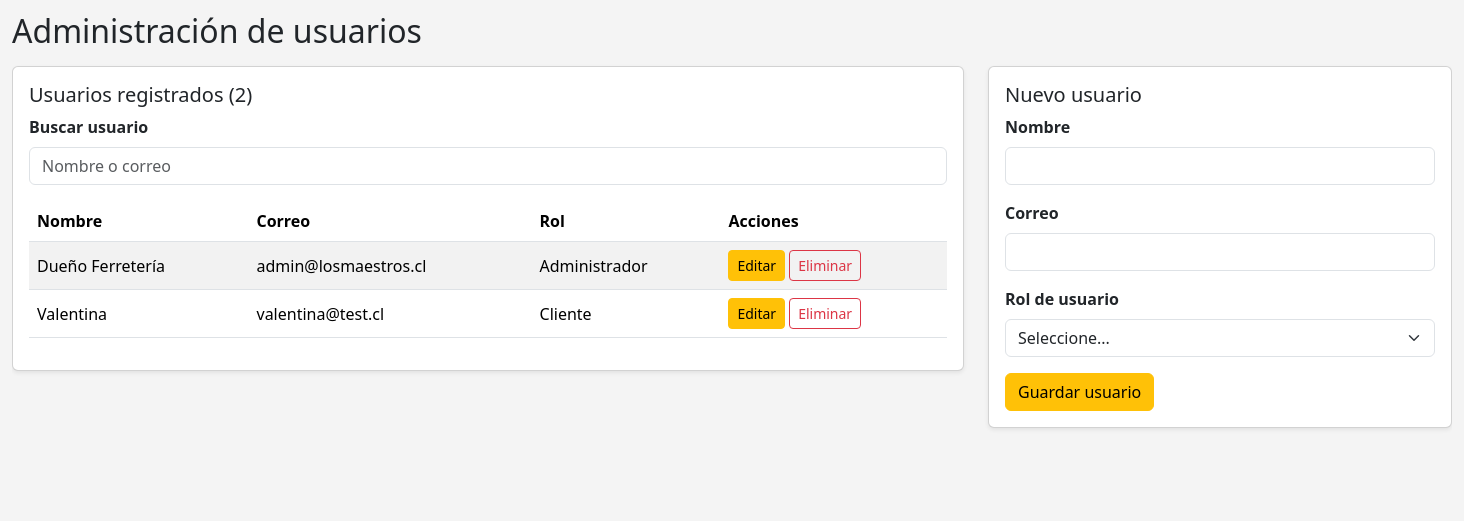
AdminUsuarios › DELETE con confirmación
Step 1. Click the button with aria-label "Eliminar Valentina" → (825, 314), box [789,298,861,329]
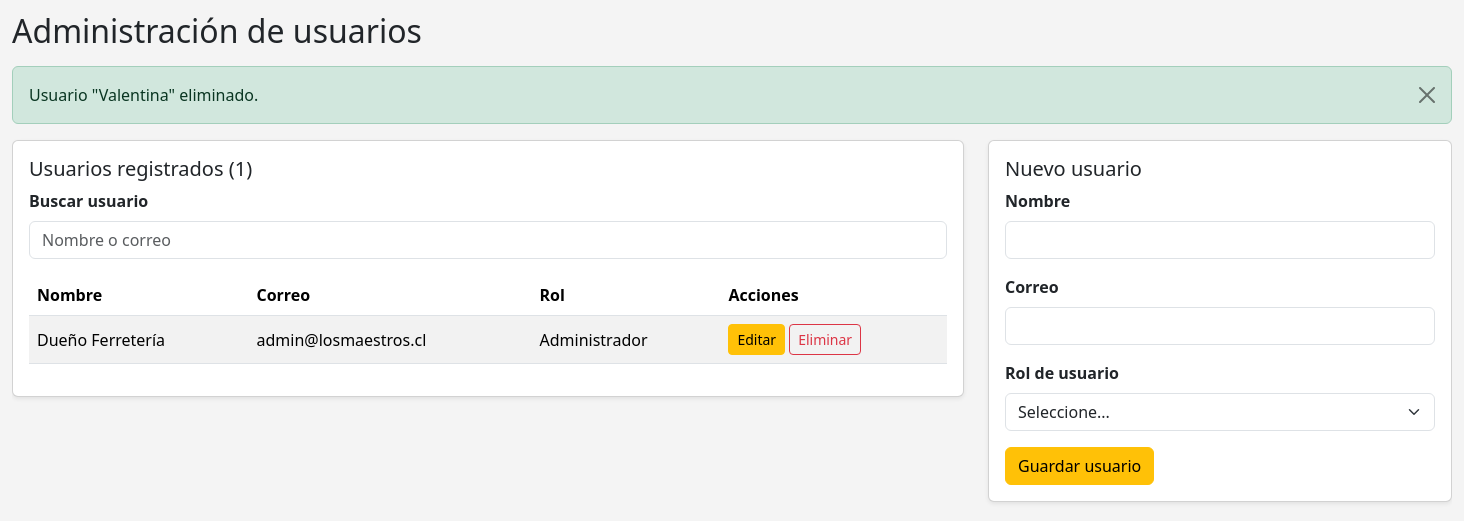
Check: the text "valentina@test.cl" is gone
